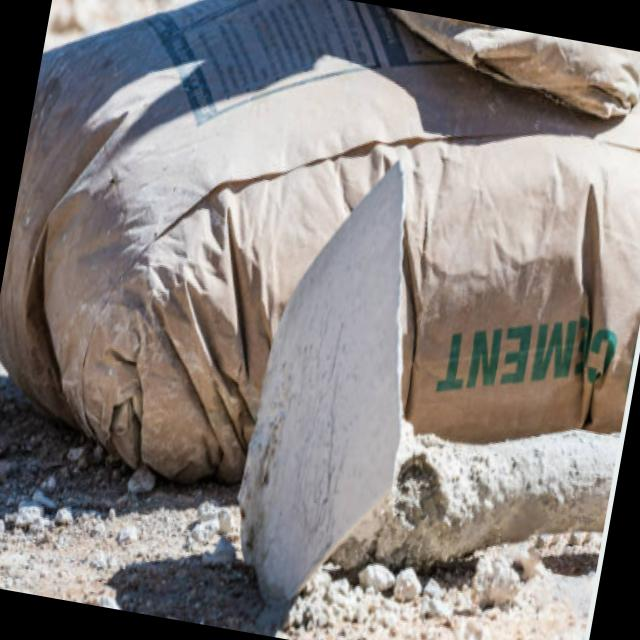KantongSemen: (0, 0, 640, 555)
